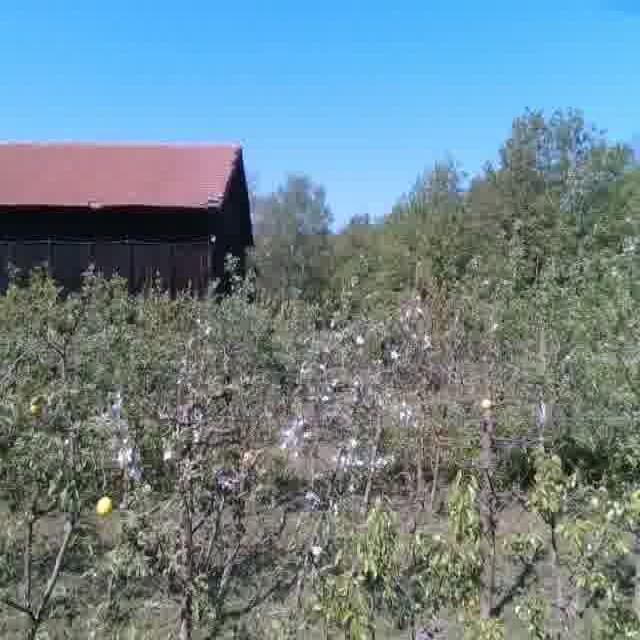yellow: (96, 494, 113, 516), (482, 397, 492, 409)
